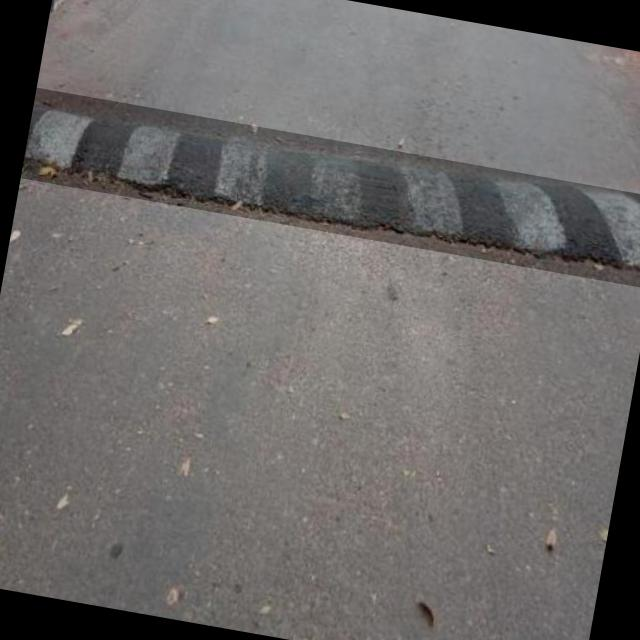bump: (20, 87, 640, 287)
